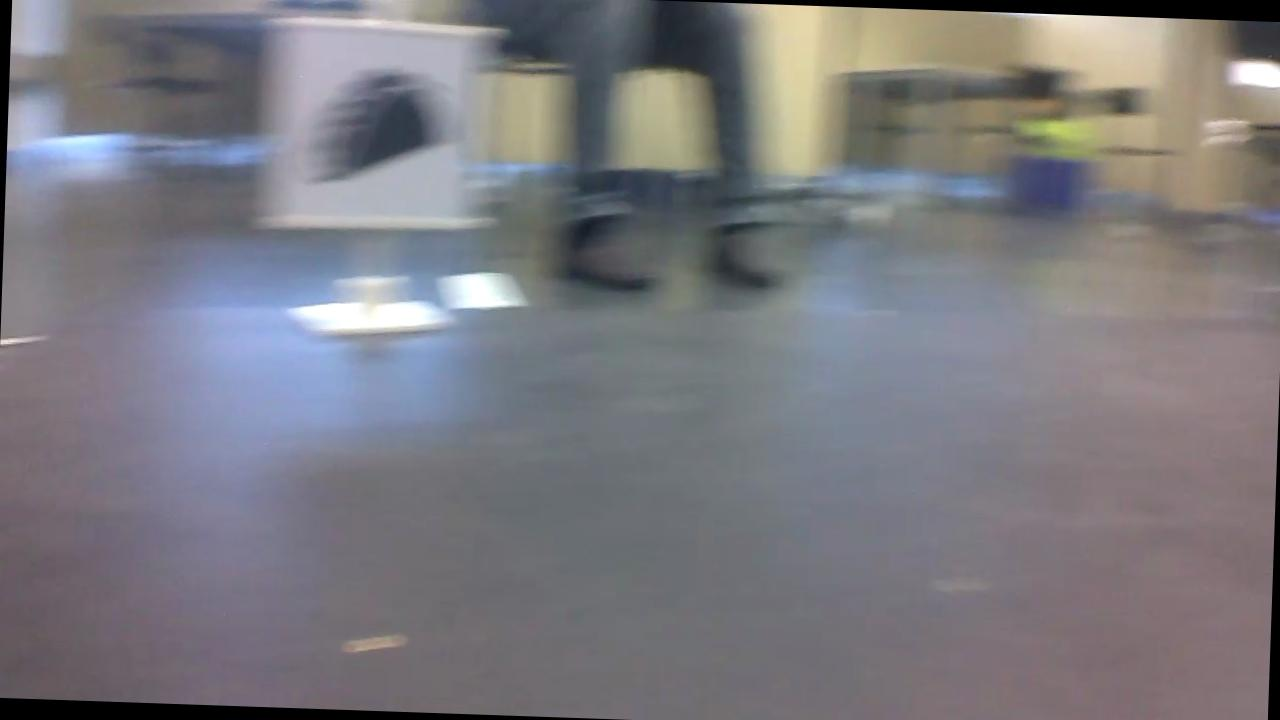taco: (291, 58, 458, 196)
